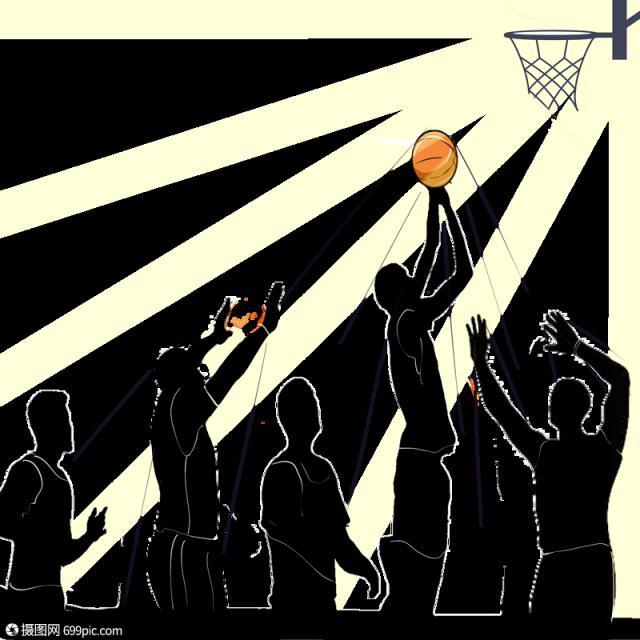rim: (410, 128, 460, 190)
